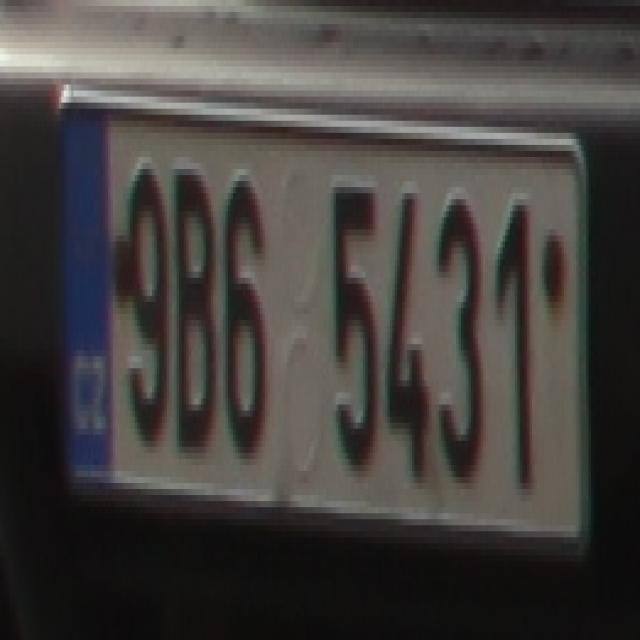1: (490, 187, 537, 507)
3: (434, 193, 486, 495)
4: (382, 175, 430, 489)
5: (323, 169, 378, 471)
6: (220, 151, 270, 471)
9: (118, 145, 170, 447)
B: (169, 151, 216, 459)
